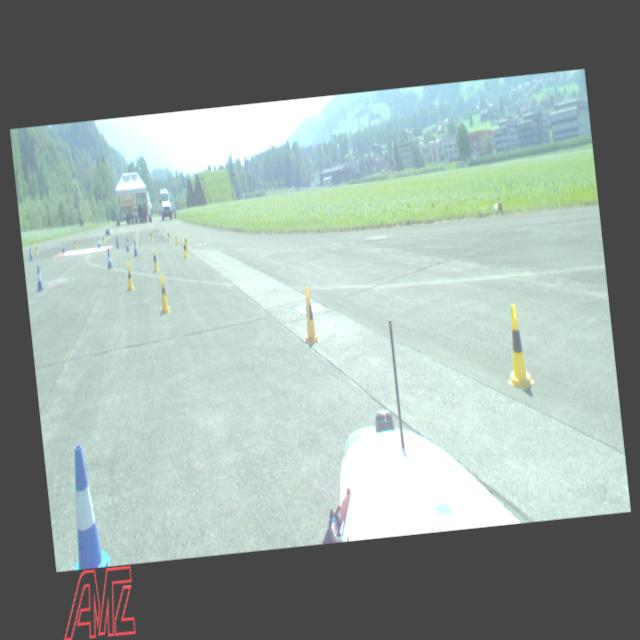blue_cone: (60, 442, 110, 570), (34, 266, 44, 291), (106, 248, 112, 268), (132, 240, 138, 256), (124, 237, 130, 252), (114, 234, 119, 248), (28, 247, 32, 260), (96, 236, 100, 248), (61, 241, 65, 252)
yellow_cone: (500, 302, 534, 390), (299, 286, 320, 342), (157, 274, 170, 312), (124, 260, 134, 290), (151, 248, 159, 271), (182, 239, 188, 258), (184, 233, 188, 250), (174, 232, 178, 246), (34, 242, 38, 254), (149, 229, 153, 240), (167, 229, 170, 242), (73, 237, 76, 248), (102, 233, 105, 244), (132, 231, 134, 241)
